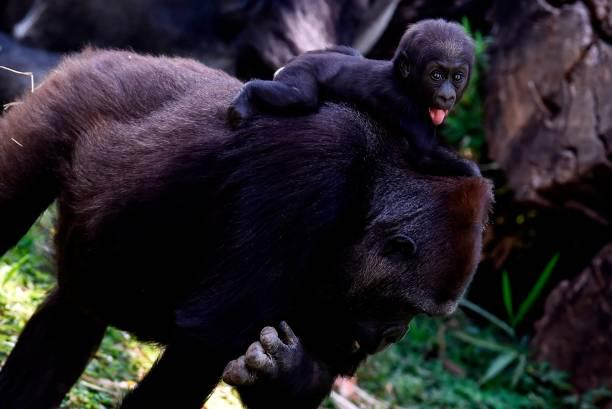gorille_Autres: (0, 120, 512, 397), (226, 10, 500, 137)
